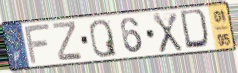6: (119, 17, 145, 54)
D: (178, 8, 212, 50)
F: (23, 21, 52, 66)
Q: (88, 18, 119, 59)
X: (151, 11, 184, 54)
Z: (51, 20, 84, 62)
